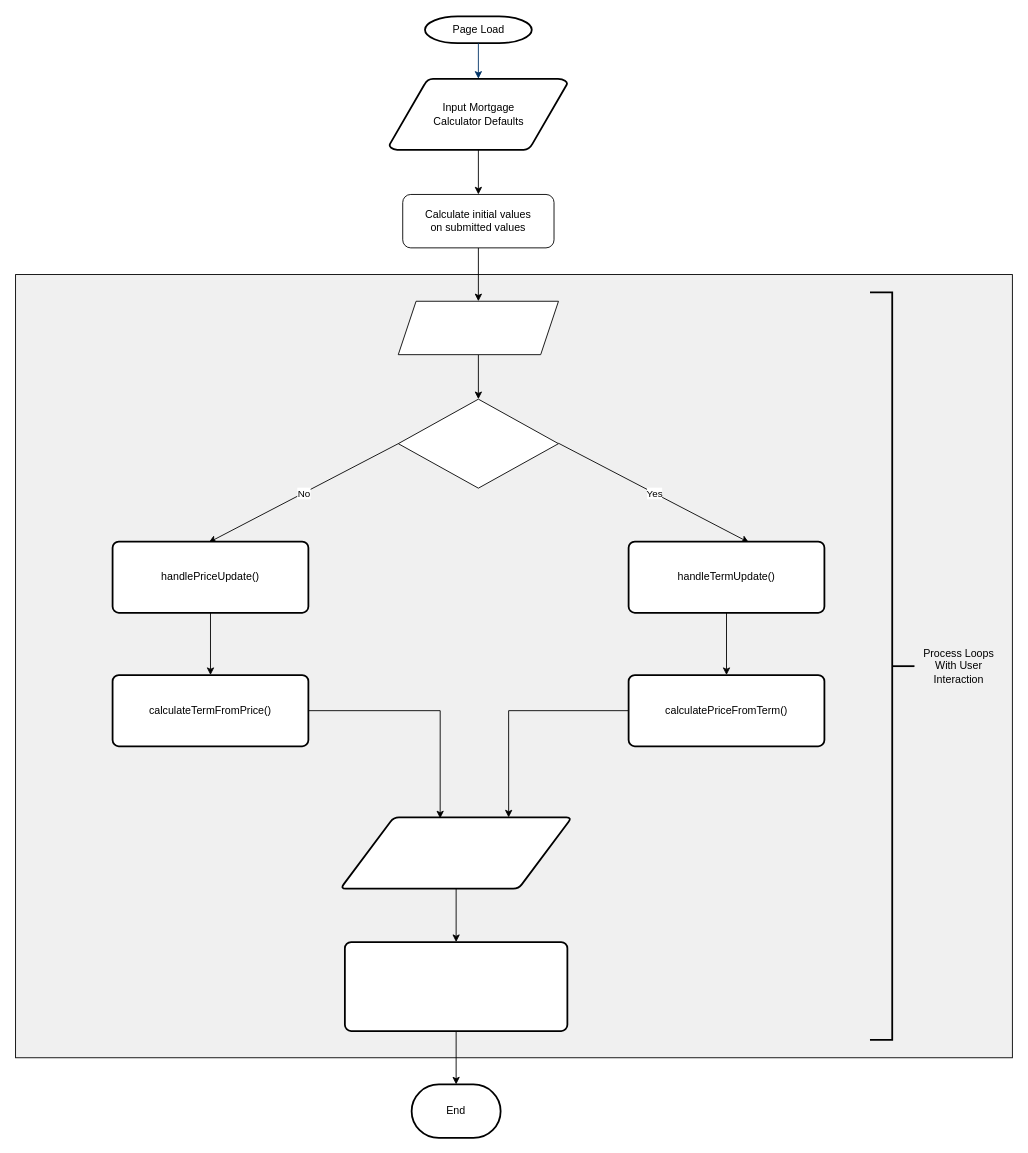
The diagram is 1028 pixels wide and 1153 high, and some of its shapes have lost their labels. Each missing label, with the centre of its shape:
"is Term Amount Updated?" belongs at pixel 477 443.
"Set Correct Image Based On Input" belongs at pixel 456 986.
"Update Form Values" belongs at pixel 455 852.
"User Updates Field Values" belongs at pixel 477 327.
